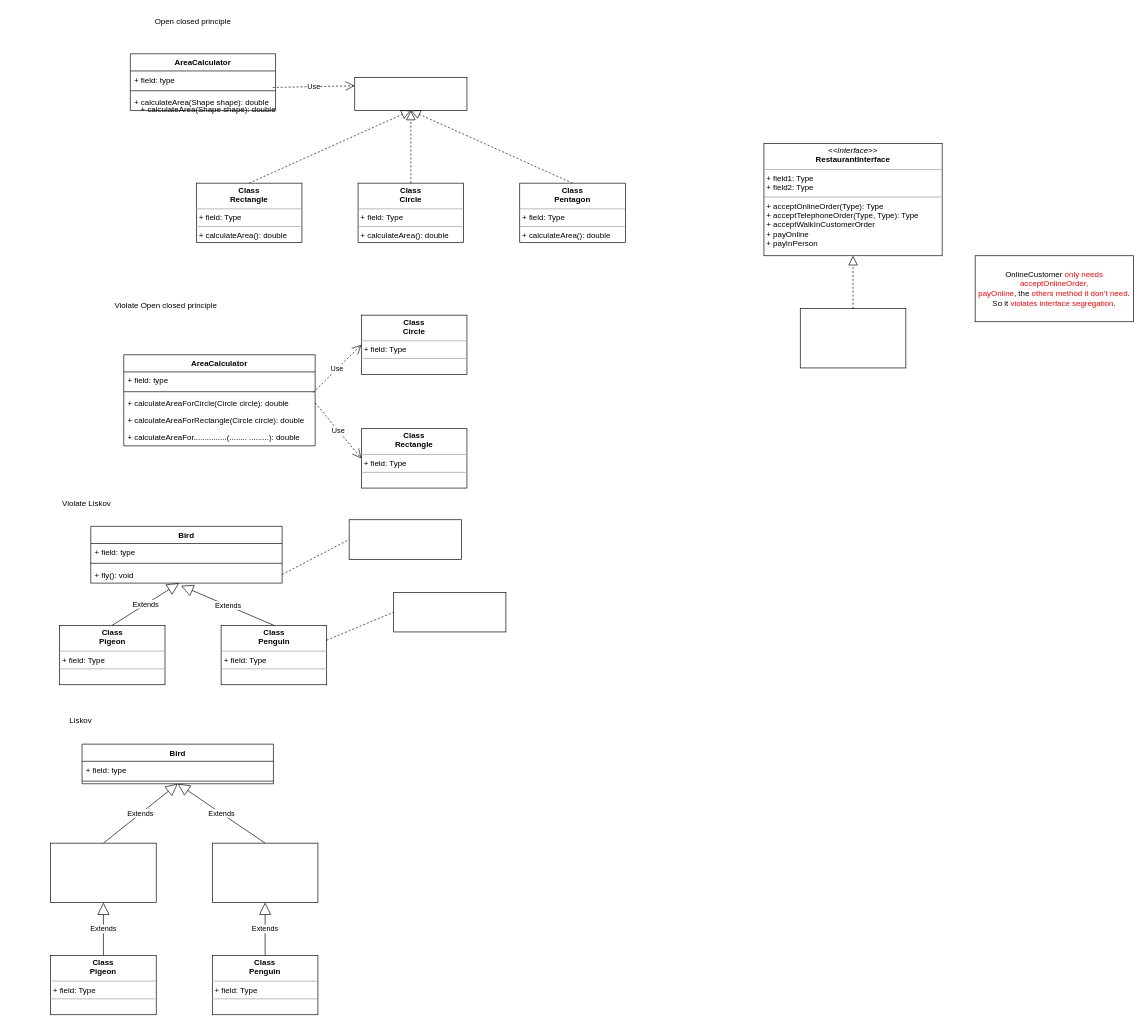
Image size: 1145x1026. Some labels were removed from this diagram. Each missing label, with the centre of its shape:
"Bird has a method fly()" goes at pixel 404 539.
"Class FlyingBird + field: Type + fly(): void" goes at pixel 103 872.
"Class SwimmingBird + field: Type + swim(): void" goes at pixel 265 872.
"OnlineCustomerImpl + field: Type + method(): Type" goes at pixel 853 338.
"Penguin cannot fly ==> violate Liskov substitution" goes at pixel 449 612.
"«interface» Shape + calculateArea(): double" goes at pixel 410 94.
